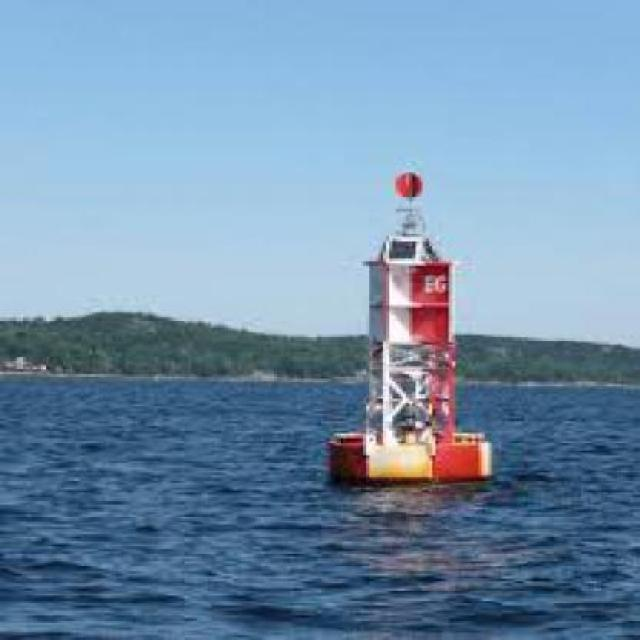buoy: (314, 163, 513, 491), (298, 425, 516, 491)
